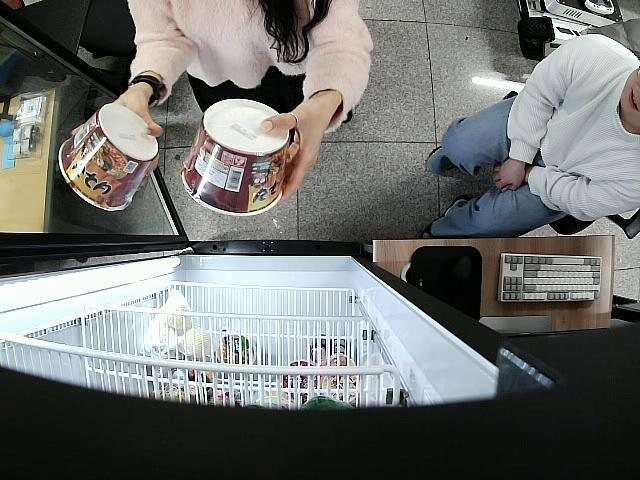05_nuguri_L: (182, 98, 288, 217), (58, 102, 158, 214)
